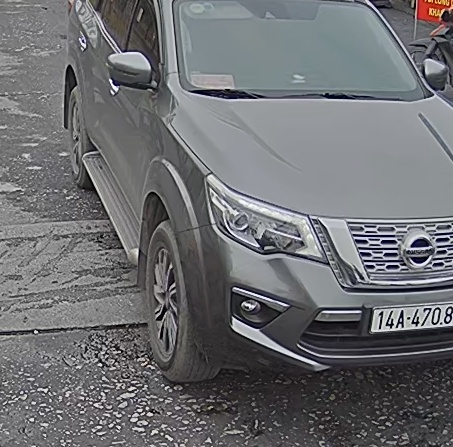vehicle plate: (366, 302, 453, 336)
